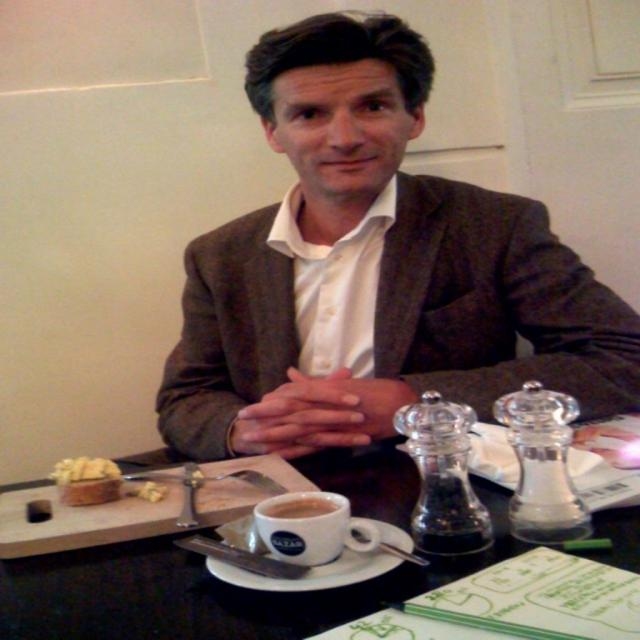Coffee: (267, 500, 344, 523)
